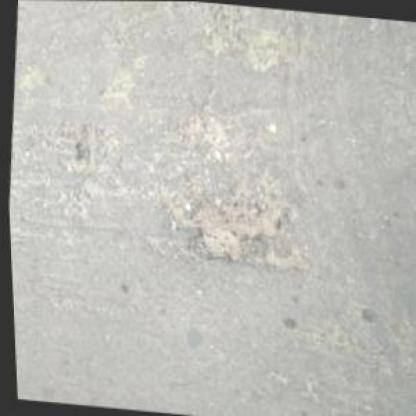pothole: (180, 175, 302, 273), (71, 124, 94, 160)
